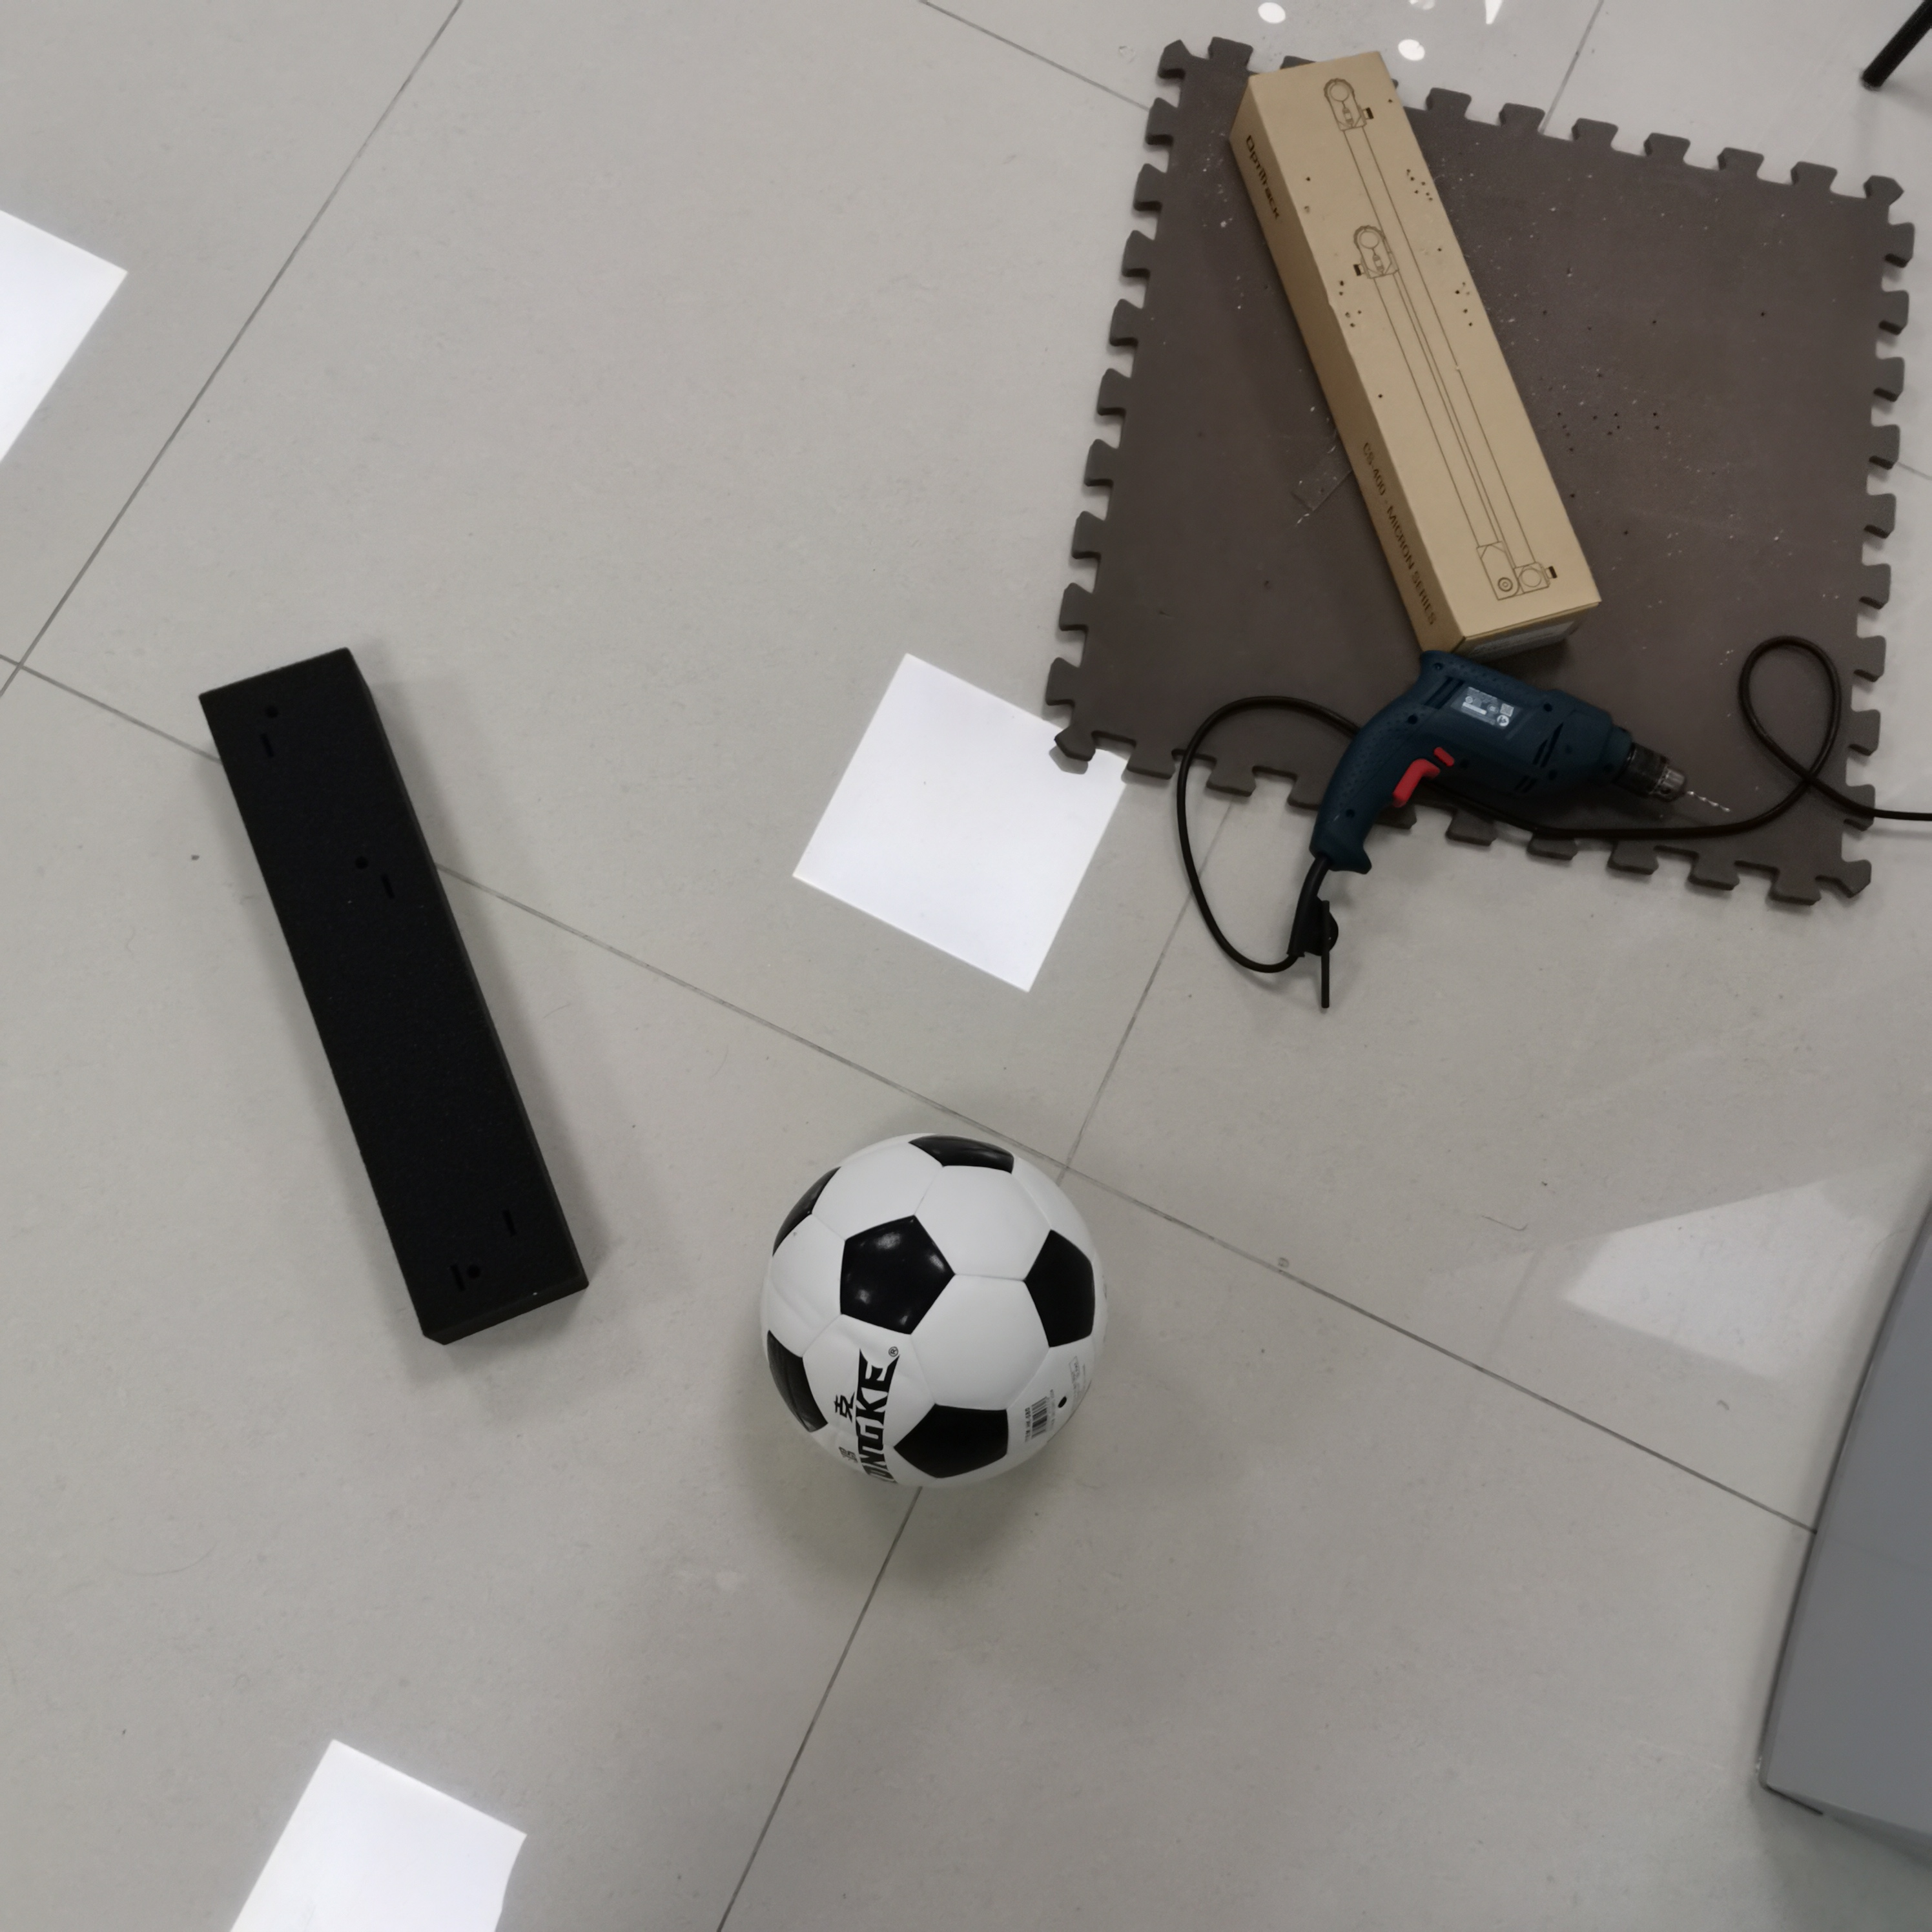football: (763, 1131, 1109, 1483)
